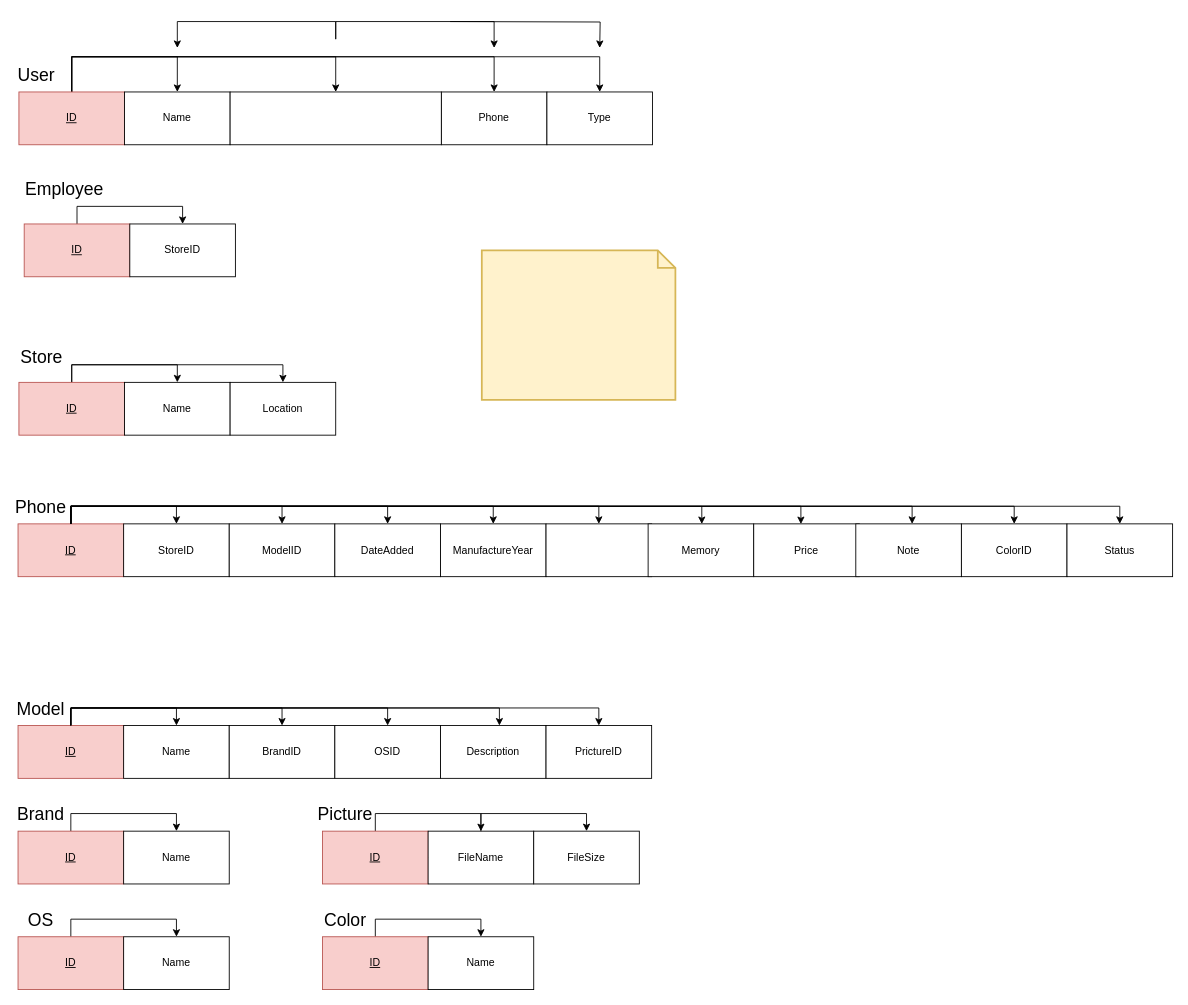
Some shapes in this 1188 by 1005 pixel diagram are drawn without their labels. The shapes that lost their labels are listed below. From the top down, each one's centre as x and y in pixels, then its label:
the point at 335,118: Email | Password.
the point at 578,324: Red is primary key
the point at 598,550: Condition
